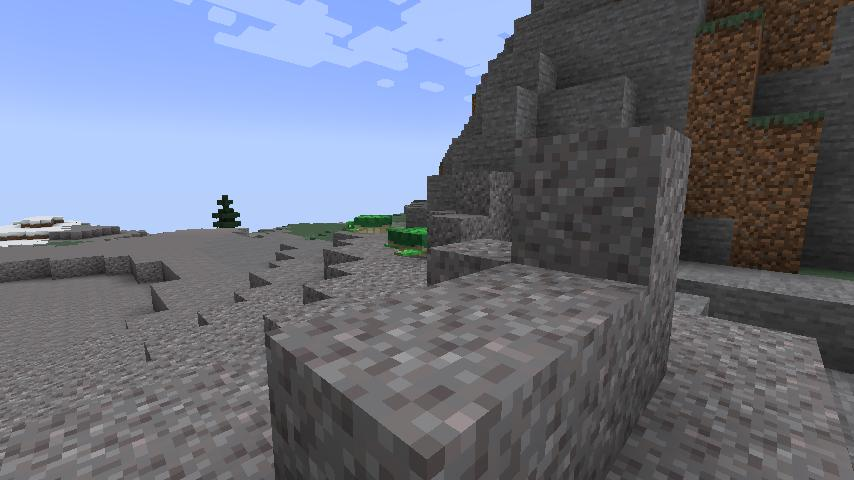turtle: (384, 225, 432, 259), (348, 213, 394, 234)
